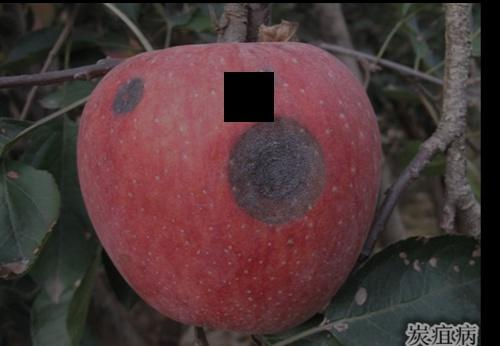rotten apple: (77, 41, 390, 336)
